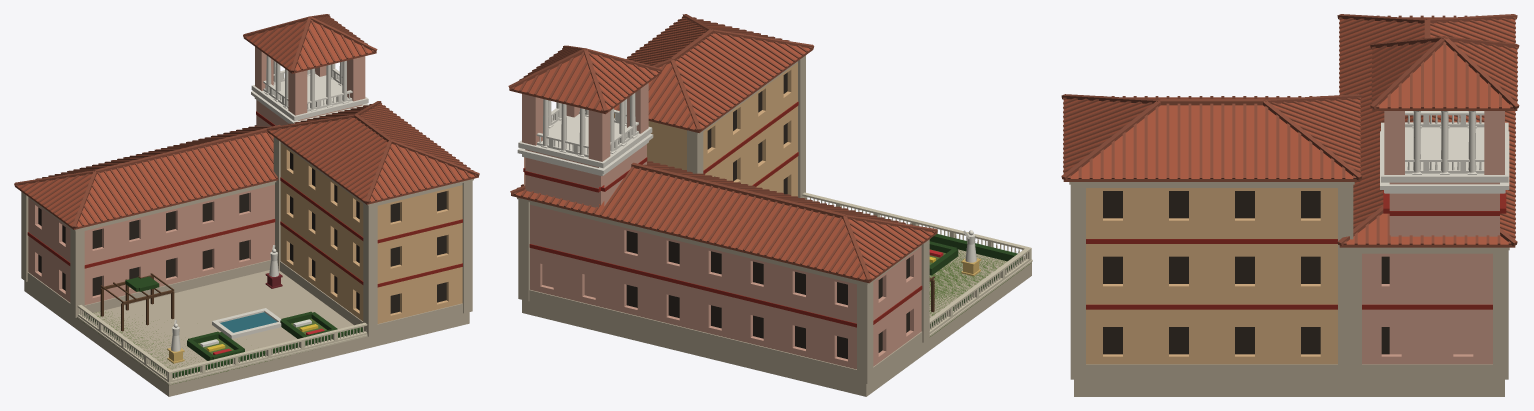
File: rome_pal_block_c_flat.glb
The picture shows the model from 3 angles, left to right: view 1: azimuth 30°, elevation 25°; view 2: azimuth 150°, elevation 25°; view 3: azimuth 270°, elevation 25°; orthographic projection. The views are drawn at different scales.
Parts seen in each view (by area): view 1: rome_pal_block_c_flat; view 2: rome_pal_block_c_flat; view 3: rome_pal_block_c_flat.
Boxes of the visible parts, x1,y1,x2,y2 form: rome_pal_block_c_flat: [14, 14, 479, 396]; rome_pal_block_c_flat: [508, 14, 1032, 396]; rome_pal_block_c_flat: [1061, 14, 1519, 396].
Bounding box in the file's own units: 31.56 × 21.38 × 26.56.
